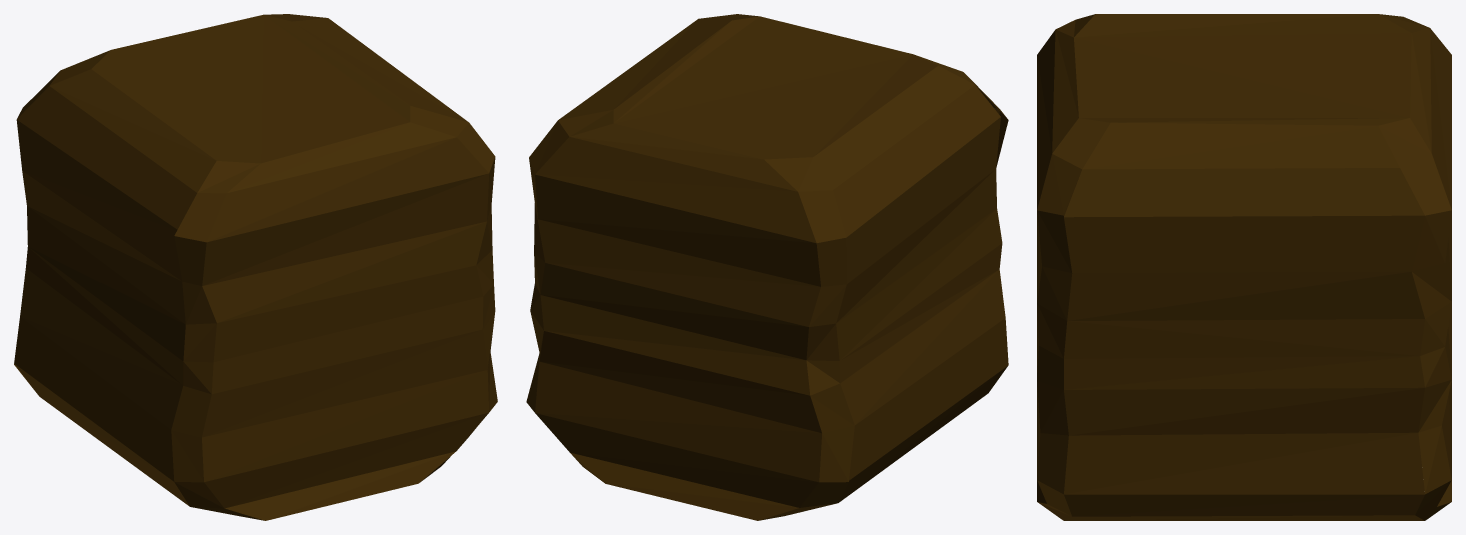
File: model_loc_2349_8.obj
3 views of the same model, side by side, from view 1: azimuth 30°, elevation 25°; view 2: azimuth 150°, elevation 25°; view 3: azimuth 270°, elevation 25° (orthographic). The views are drawn at different scales.
Visible parts, largest first — view 1: 1492; view 2: 1492; view 3: 1492.
Part boxes in pixels (bbox=[...]): 1492: bbox=[14, 14, 497, 520]; 1492: bbox=[526, 14, 1008, 520]; 1492: bbox=[1037, 14, 1451, 520].
Size of the model in its own units: 252 by 259 by 248.
